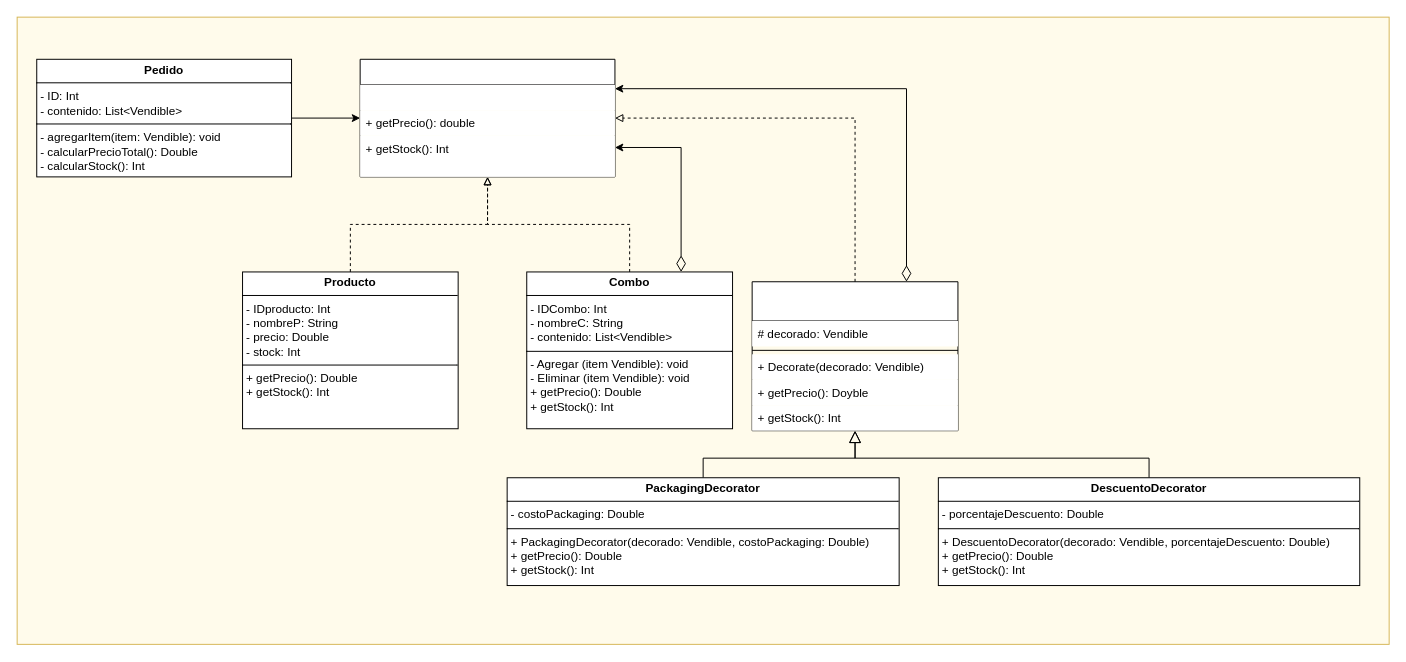
The diagram is 1406 pixels wide and 662 high, and some of its shapes have lost their labels. Here are the shapes that lost their labels. From the top down, the box of each, then its label:
(359, 58, 615, 177): «interface» Vendible
(751, 281, 958, 431): <abstract> Vendible Decorator
